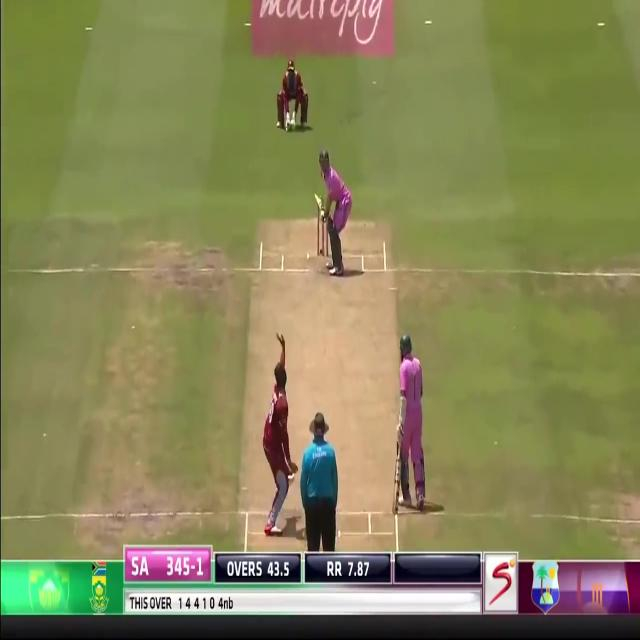Ball: (395, 331, 428, 513), (317, 151, 352, 274)
Fielder: (261, 330, 296, 534), (277, 62, 309, 132)
Umpire: (299, 411, 340, 551)
